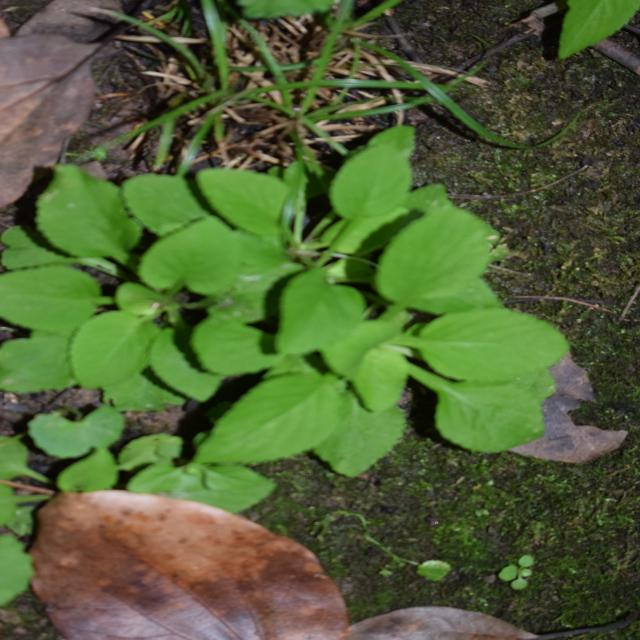Viola: (162, 92, 473, 502)
